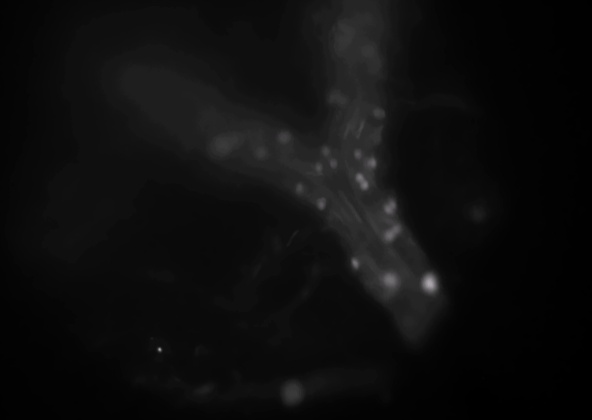cell: (423, 276, 437, 290), (372, 106, 386, 120), (351, 148, 365, 162), (365, 157, 379, 171), (318, 144, 332, 158), (312, 159, 326, 173), (327, 158, 341, 172), (326, 91, 340, 105), (352, 170, 366, 184), (336, 93, 350, 107), (357, 179, 371, 193), (348, 257, 362, 271), (382, 271, 396, 285), (382, 228, 396, 242), (387, 198, 401, 212), (390, 222, 404, 236), (383, 203, 397, 217), (314, 197, 328, 211), (293, 181, 307, 195), (253, 145, 267, 159), (213, 139, 227, 153), (360, 42, 374, 56), (368, 55, 382, 69), (331, 38, 345, 52), (370, 131, 384, 145), (278, 130, 292, 144)
